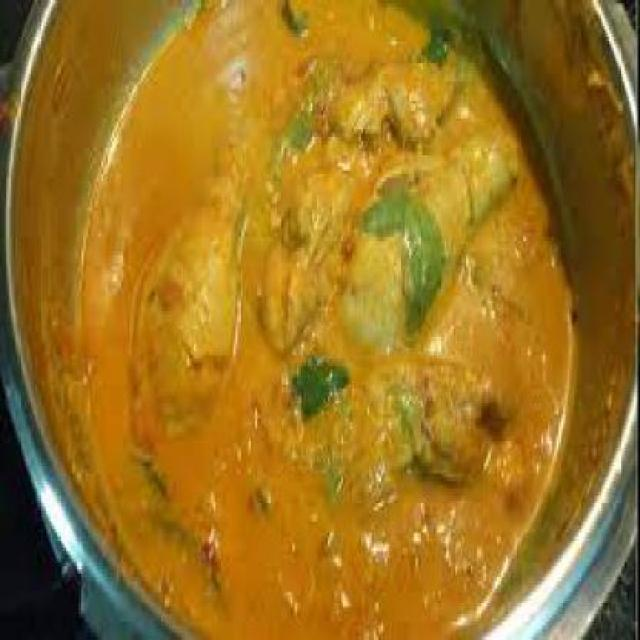CHICKEN CURRY: (74, 0, 578, 638)
